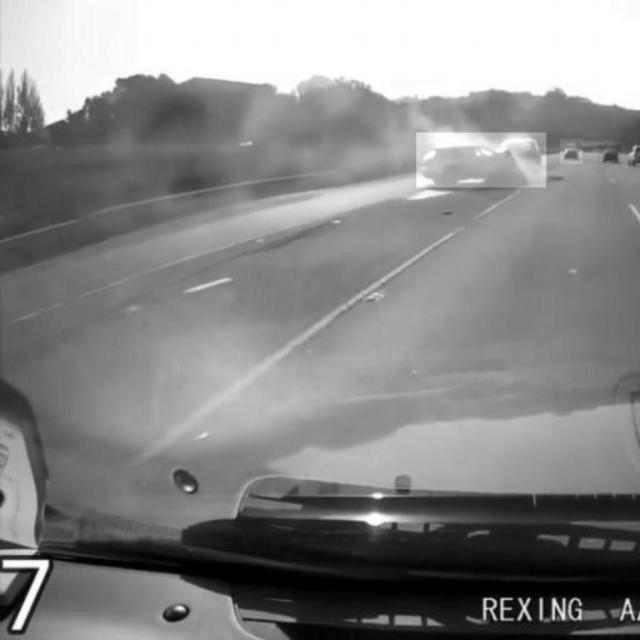accident: (417, 133, 547, 188)
vehicle: (560, 140, 582, 165), (598, 145, 622, 165)
